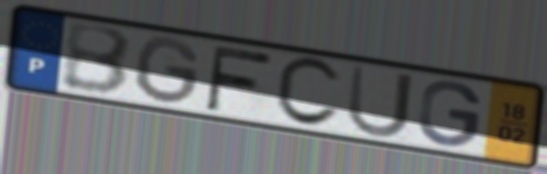B: (60, 21, 136, 98)
C: (272, 55, 345, 130)
F: (201, 42, 276, 113)
G: (133, 34, 204, 108), (416, 79, 486, 149)
U: (345, 61, 417, 140)
